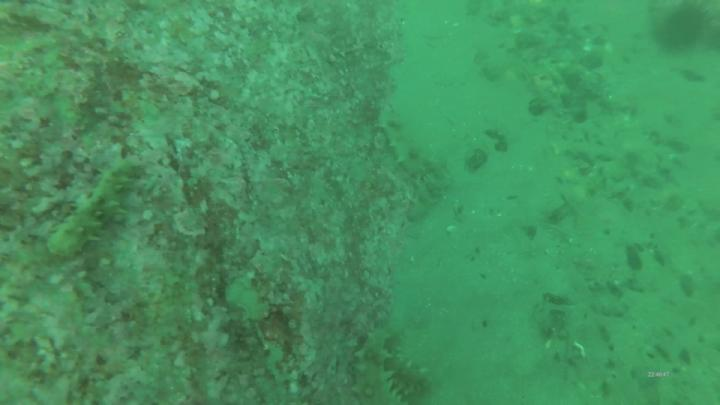echinus: (652, 1, 710, 57)
holothurian: (44, 154, 144, 263), (374, 102, 446, 191), (345, 331, 409, 405)
